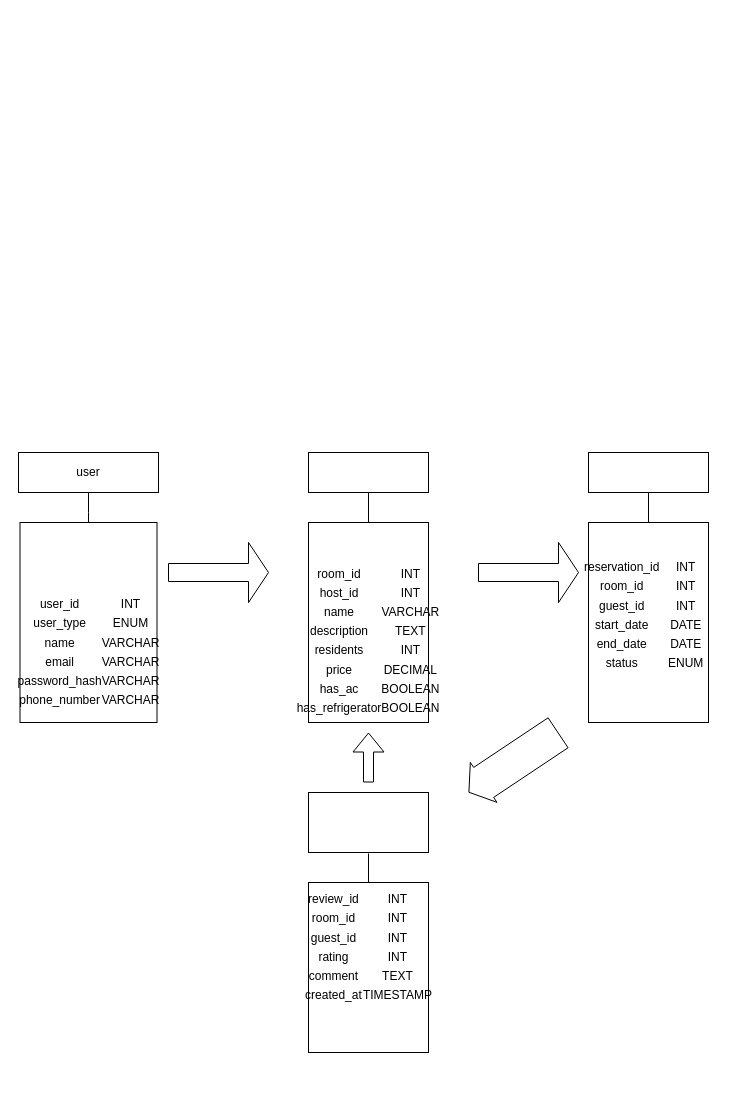
This 729x1093 diagram has some shape labels left out. The centre of each missing label's shape, as x and y in pixels:
"bookings" belongs at [648,472].
"Reviews" belongs at [368,822].
"rooms" belongs at [368,472].
